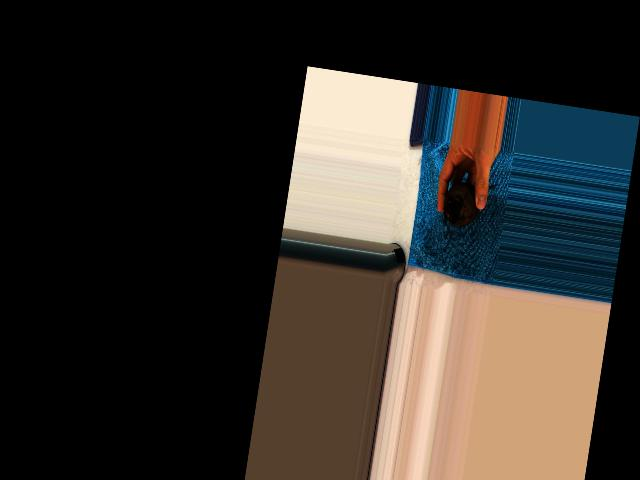beet: (439, 177, 497, 245)
